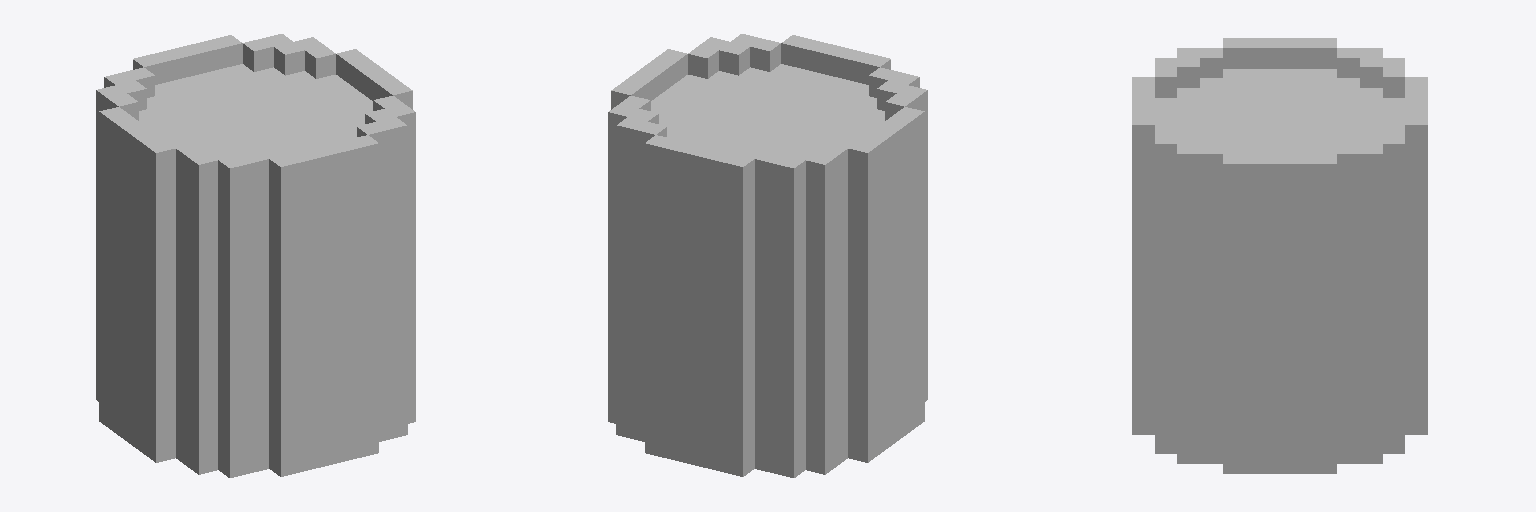
Rendered from barril1.obj.
The picture shows the model from 3 angles: view 1: azimuth 30°, elevation 25°; view 2: azimuth 150°, elevation 25°; view 3: azimuth 270°, elevation 25°; orthographic projection.
Parts seen in each view (by area): view 1: barril1; view 2: barril1; view 3: barril1.
Boxes of the visible parts, box(x1,y1,x2,y2) form: barril1: box(96, 34, 415, 477); barril1: box(608, 34, 927, 477); barril1: box(1132, 38, 1427, 473).
Size of the model in its own units: 13 by 15 by 13.